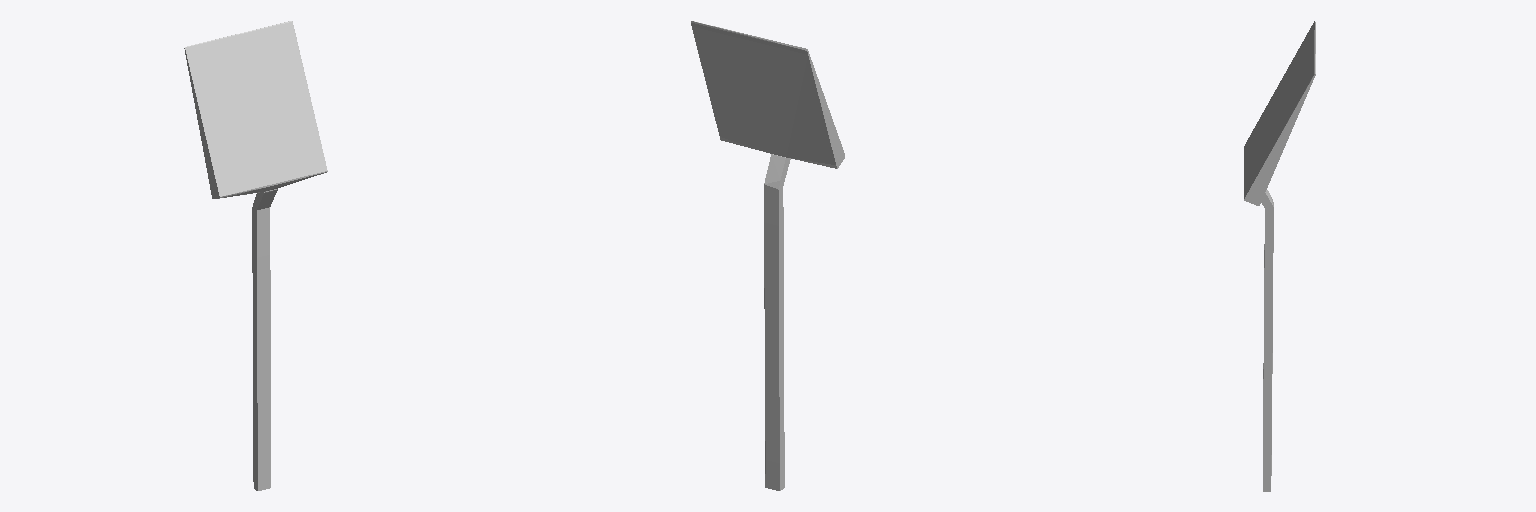
URDF robot description (spatula.urdf):
<?xml version="0.0" ?>
<robot name="spatula.urdf">
  <link name="spatula_link">
    <inertial>
      <origin rpy="0 0 0" xyz="-0.05 0 0.3"/>
<!--      <origin rpy="-2.9515927 0 -3.1415926" xyz="0 -0.03 -0.16"/>-->
      <mass value="0.4"/>
      <inertia ixx="1" ixy="0" ixz="0" iyy="1" iyz="0" izz="1"/>
    </inertial>
    <visual>
      <origin rpy="0 0 0" xyz="-0. 0 0."/>
      <geometry>
        <mesh filename="../spatula/spatula3_v.obj" scale="0.001 0.001 0.001"/>
      </geometry>
      <material name="grey">
        <color rgba="0.85 0.85 0.85 1.0"/>
      </material>
    </visual>
    <collision>
      <origin rpy="0 0 0" xyz="-0.0 0 0."/>
      <geometry>
  	<mesh filename="../spatula/spatula3_v.obj" scale="0.001 0.001 0.001"/>
      </geometry>
    </collision>
  </link>
</robot>

--- Facts derived from the render (not from the file) ---
Views: 3 orthographic renders of the robot side by side, from view 1: azimuth 30°, elevation 25°; view 2: azimuth 150°, elevation 25°; view 3: azimuth 270°, elevation 25°.
Model spatula.urdf with 1 links and 0 joints (none), rooted at spatula_link, posed all joints at 0.
Visible links, largest first — view 1: spatula_link; view 2: spatula_link; view 3: spatula_link.
Link boxes in pixels (x1=…): spatula_link: x1=184, y1=21, x2=327, y2=490; spatula_link: x1=691, y1=21, x2=844, y2=490; spatula_link: x1=1244, y1=21, x2=1315, y2=491.
Size in the robot's own frame: 0.0805 by 0.0457 by 0.3113 metres.
1 mesh visuals loaded from 1 distinct referenced files (1 OBJ).
